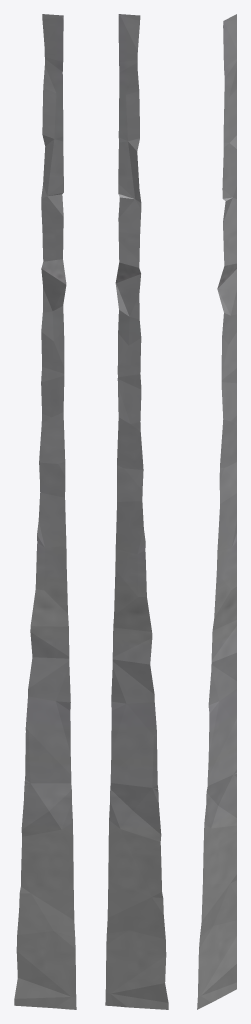
The picture shows the model from 3 angles, left to right: view 1: azimuth 30°, elevation 25°; view 2: azimuth 210°, elevation 25°; view 3: azimuth 270°, elevation 25°; orthographic projection.
Bounding box in the file's own units: 0.0377 × 0.8373 × 0.0306.
1 material, 1 textured.
